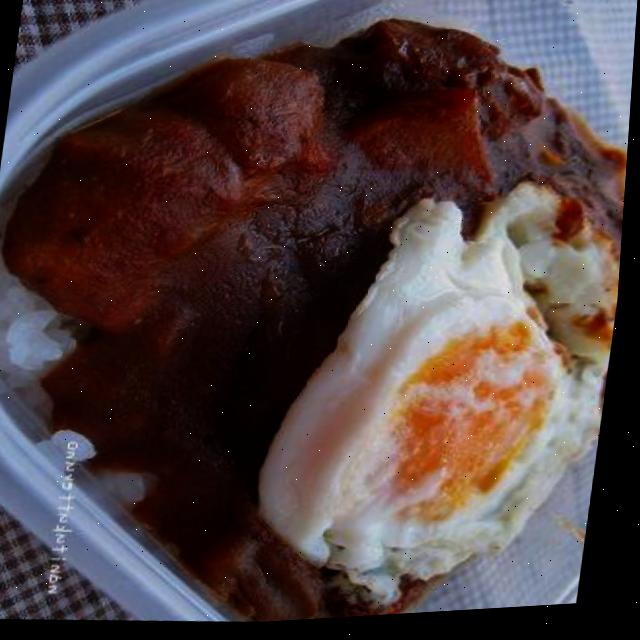鸡蛋料理: (325, 220, 627, 612)
